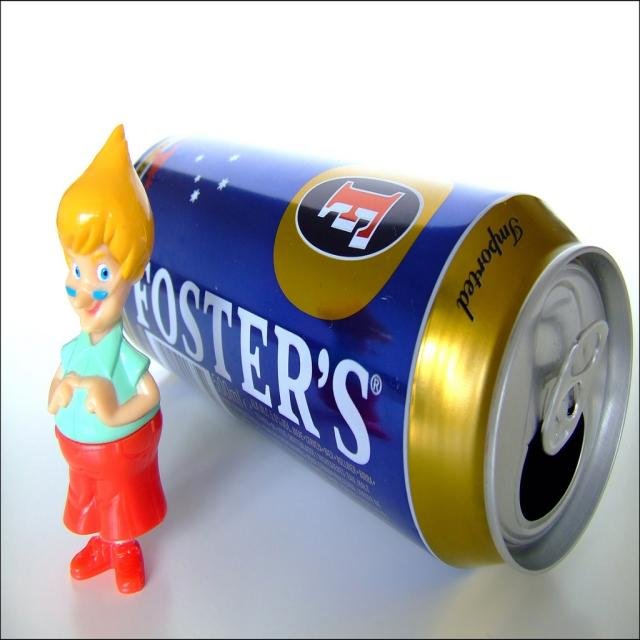fosters: (271, 162, 455, 325)
